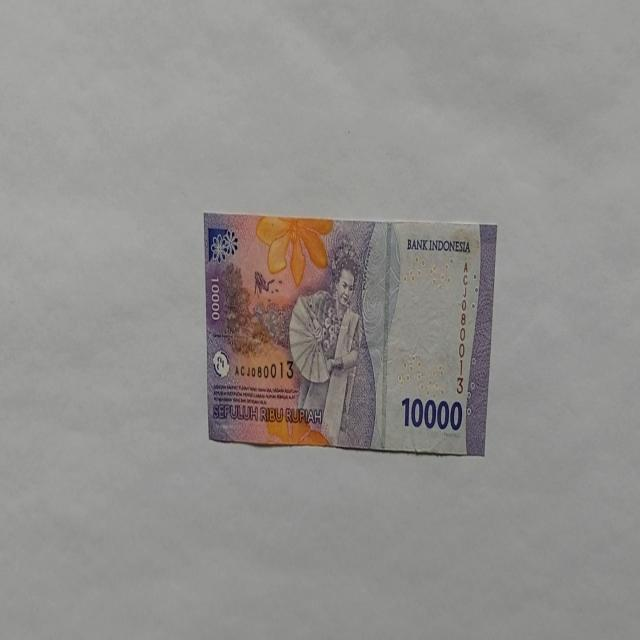sepuluh ribu rupiah: (202, 212, 498, 456)
